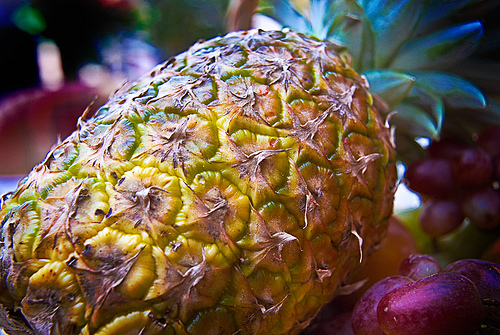pineapple: (0, 0, 487, 334)
